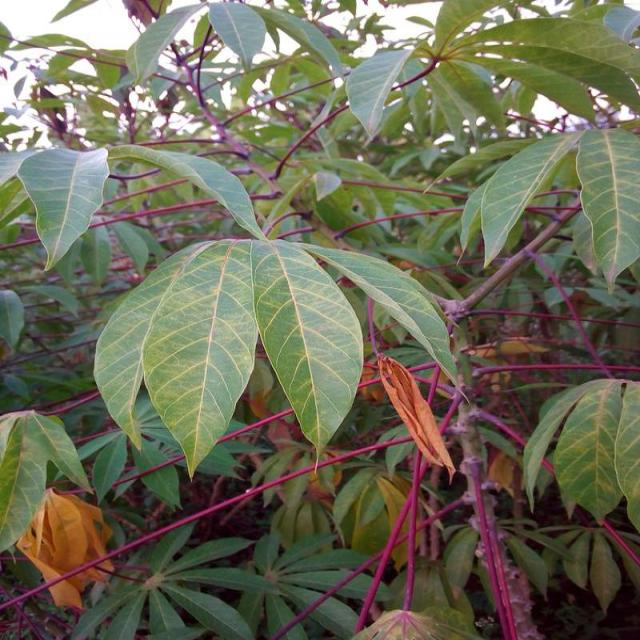cassava leaf: (141, 237, 259, 480), (250, 237, 365, 463), (94, 238, 214, 451), (1, 408, 92, 554), (18, 145, 111, 272), (576, 126, 640, 294), (346, 45, 420, 140)
